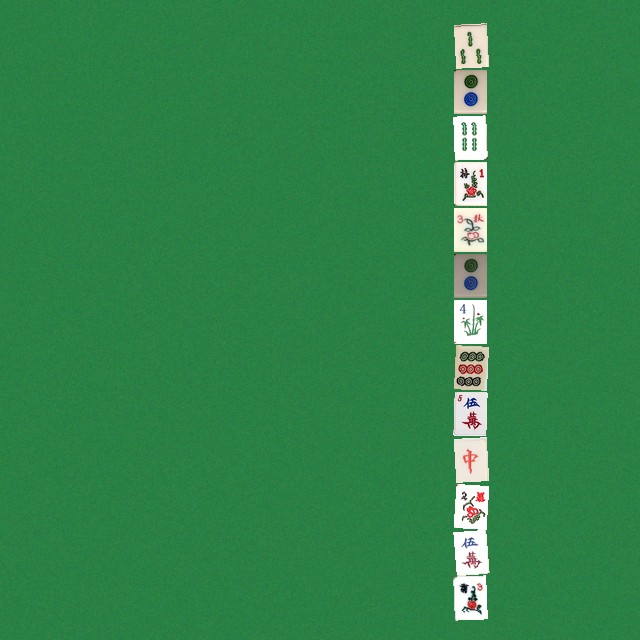tile: (453, 23, 486, 67), (453, 69, 486, 113), (453, 115, 486, 159), (453, 161, 486, 205), (453, 207, 486, 251), (453, 253, 486, 297), (453, 299, 486, 343), (453, 345, 486, 389), (453, 391, 486, 435), (453, 437, 486, 481), (453, 483, 486, 527), (453, 529, 486, 573), (453, 575, 486, 619)
